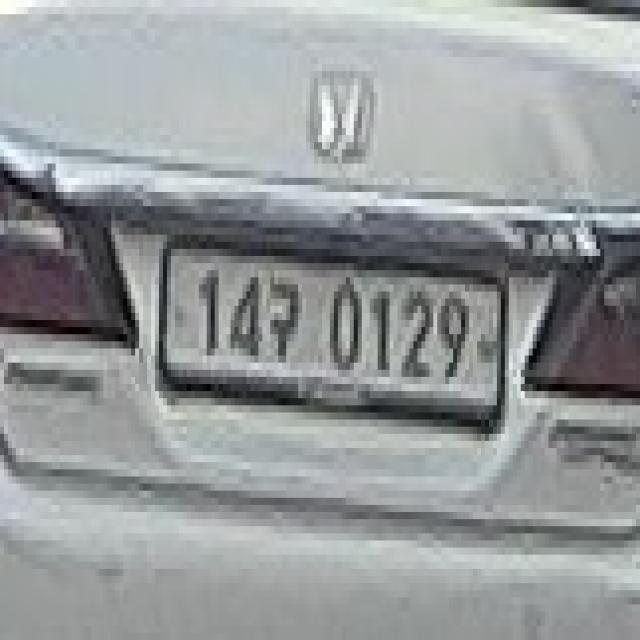0: (322, 263, 366, 391)
1: (186, 263, 226, 384), (366, 277, 398, 391)
2: (402, 285, 438, 391)
4: (227, 270, 270, 384)
9: (433, 277, 473, 391)
gu: (262, 270, 314, 384)
license_plate: (147, 227, 509, 441)
